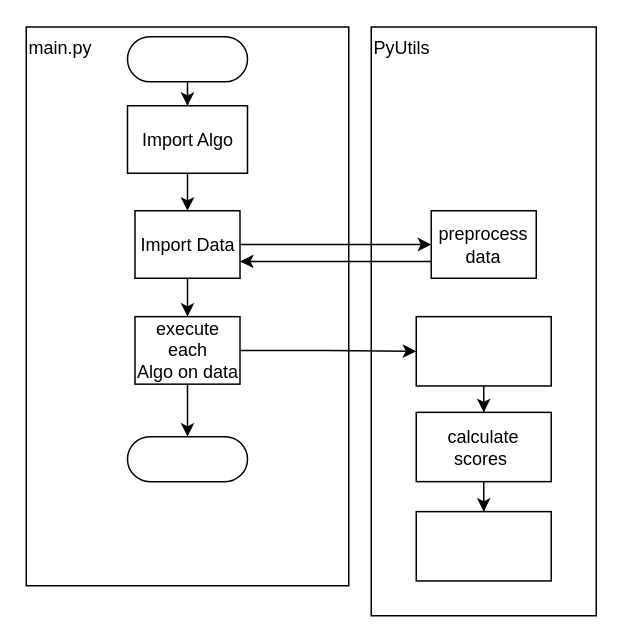
This 623x642 diagram has some shape labels left out. The centre of each missing label's shape, as x and y in pixels:
"End" belongs at point (187, 458).
"perform Algo" belongs at point (483, 350).
"Plot Matrix" belongs at point (483, 545).
"Start" belongs at point (187, 58).
